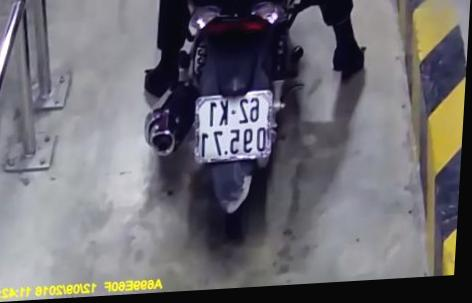License_Plate: (189, 85, 283, 171)
